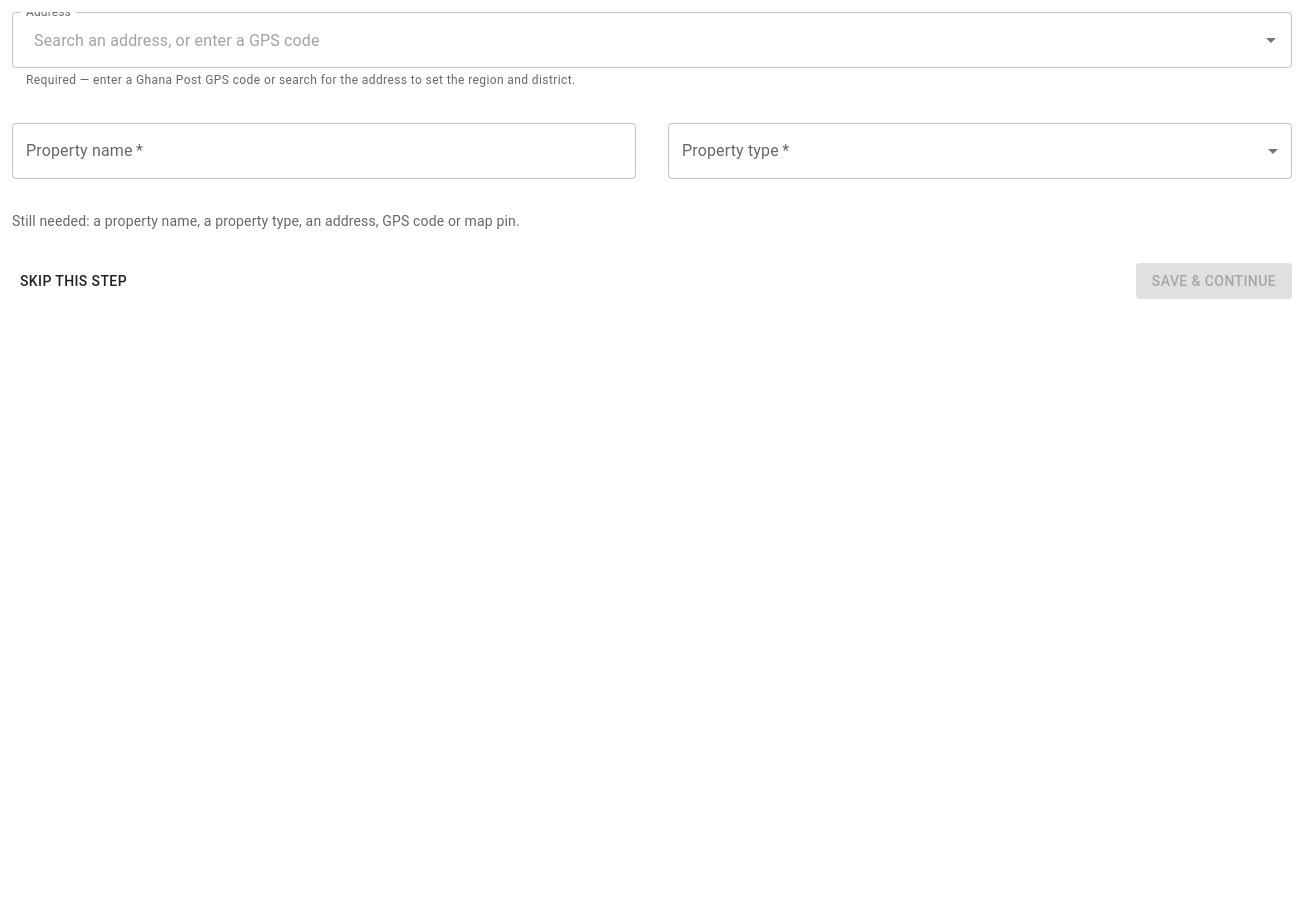
Scenario: PropertyStep address autofill › keeps the autofilled city visible when the locality fetch for its district fails
Type "east legon" into the dropdown labelled "Address". click: (636, 40)
box: [29,21,1243,59]
Wait 500 ms
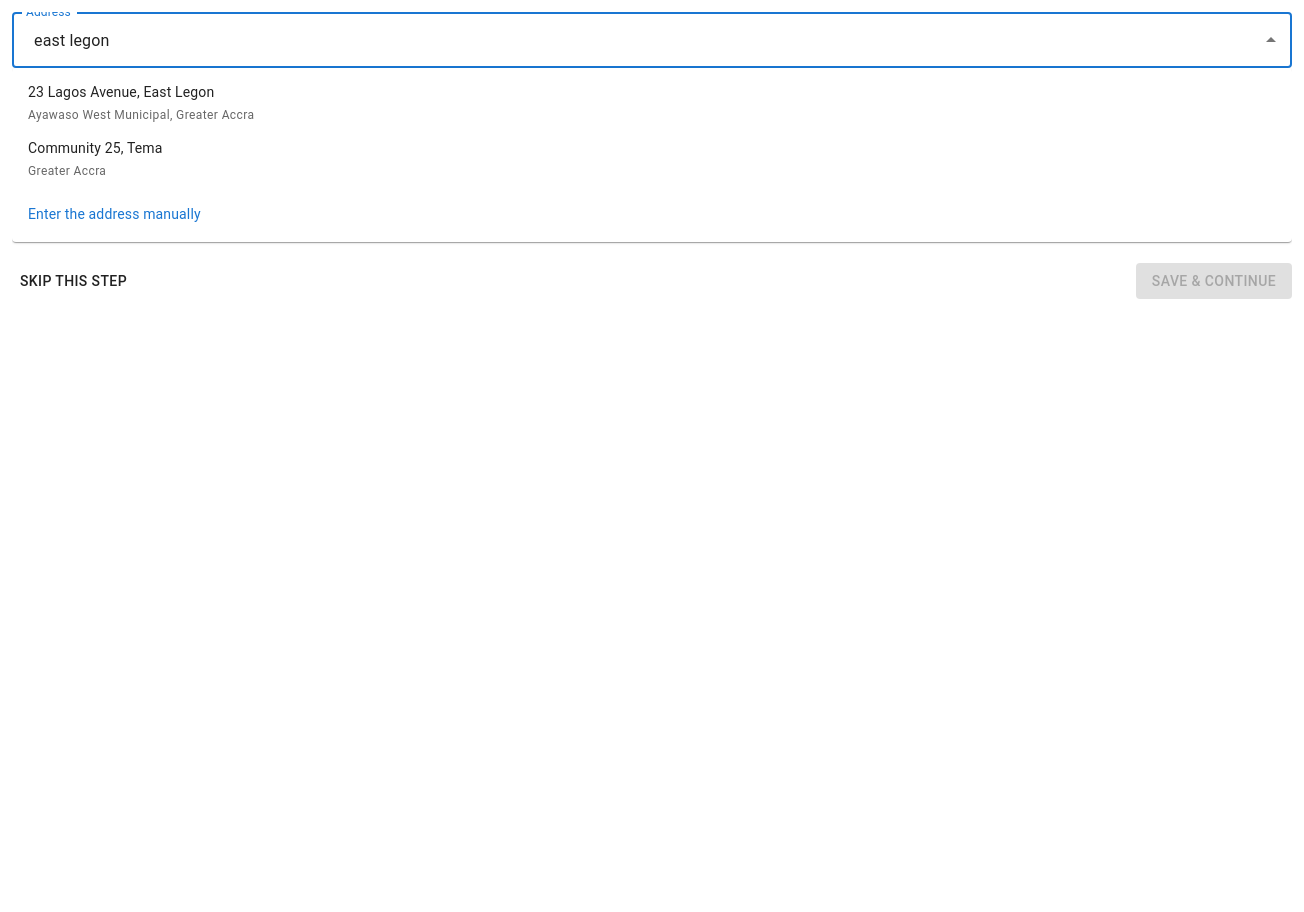
Click the text "23 Lagos Avenue, East Legon". click: (121, 92)
box: [28,84,214,100]
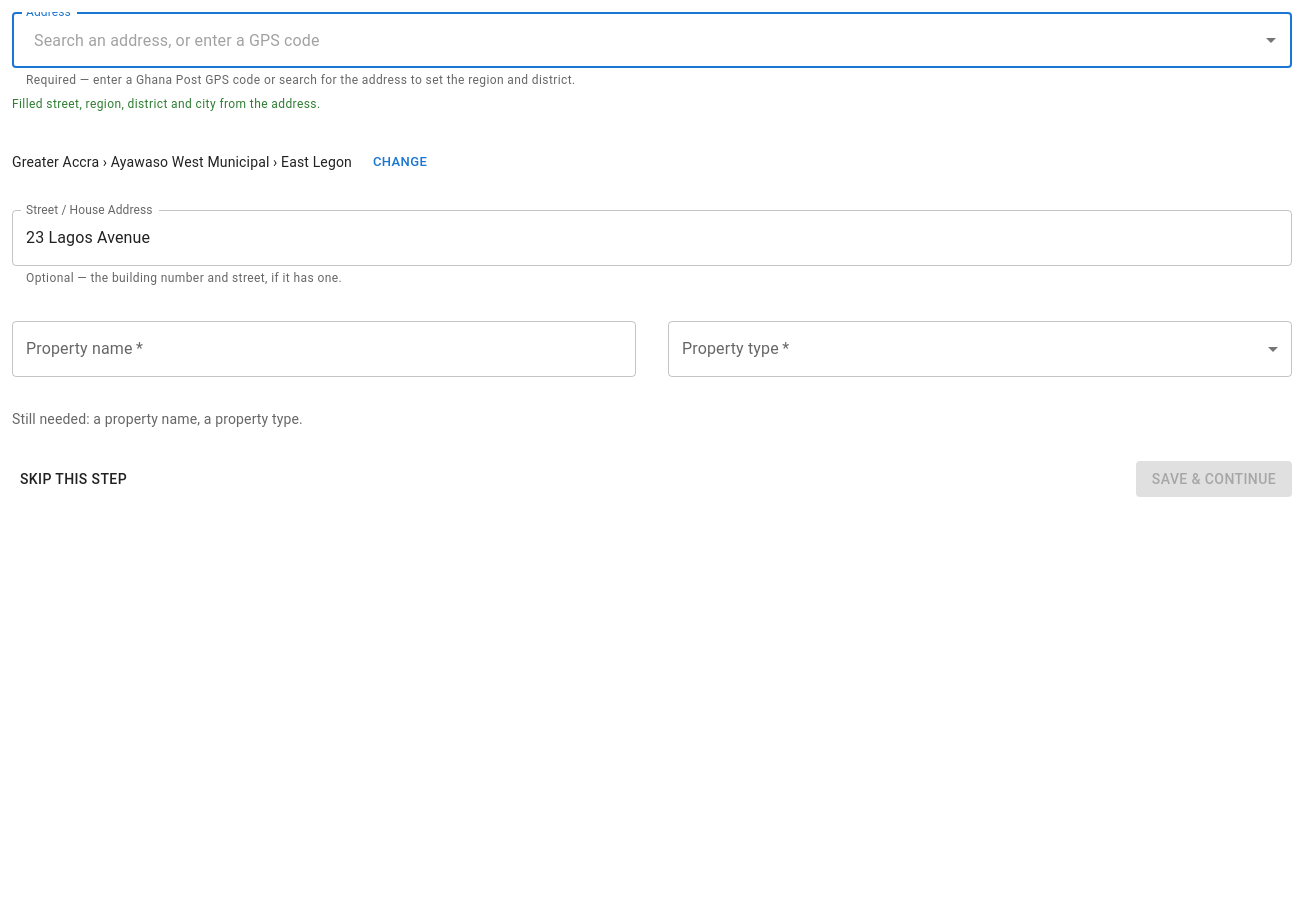
Click the button "Change". click: (400, 162)
box: [368,147,432,178]
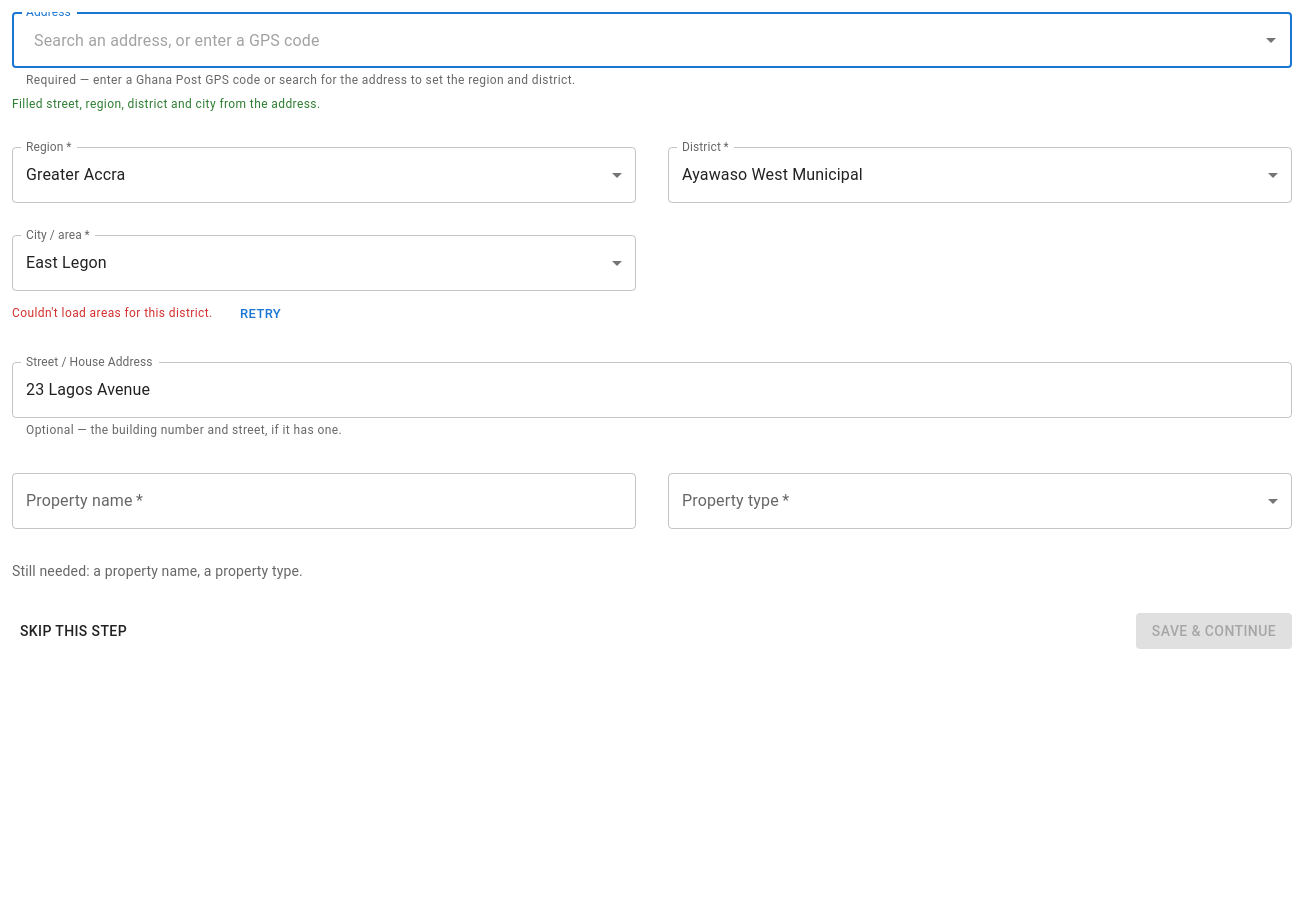
Check: the dropdown named "city" reads "East Legon", box [26,253,107,272]
Check: the text "Couldn't load areas for this district." is shown, box [12,304,213,324]
